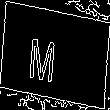M_N: (40, 26, 70, 84)
